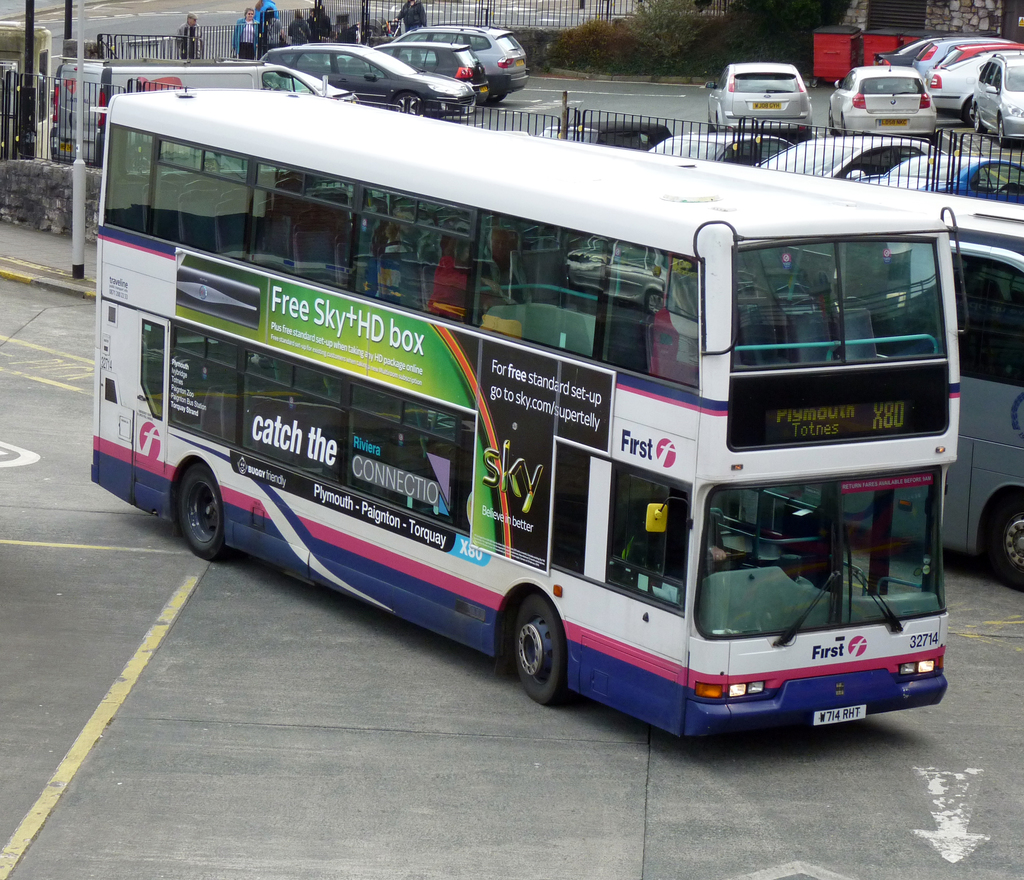Bus: (86, 89, 947, 739)
